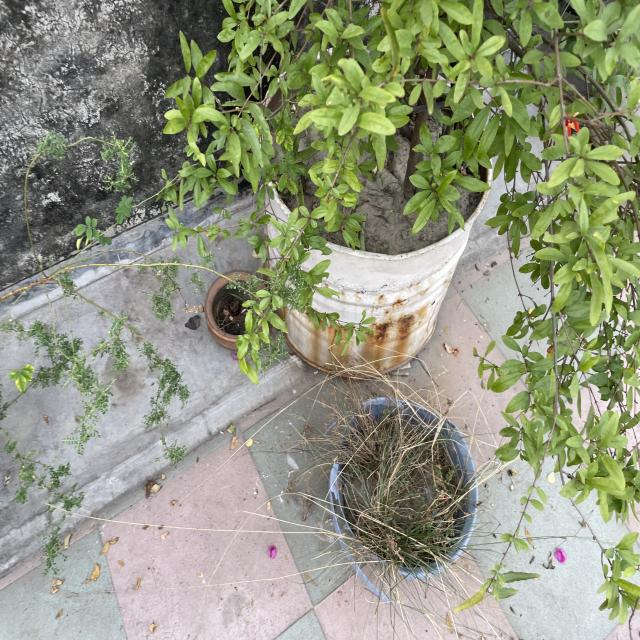Breeding Place: (263, 46, 466, 374), (332, 394, 482, 585), (207, 270, 283, 351)
